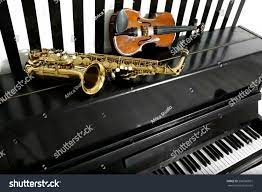Piano: (1, 31, 260, 192)
Saxophone: (16, 41, 202, 99)
Violin: (102, 5, 220, 53)
